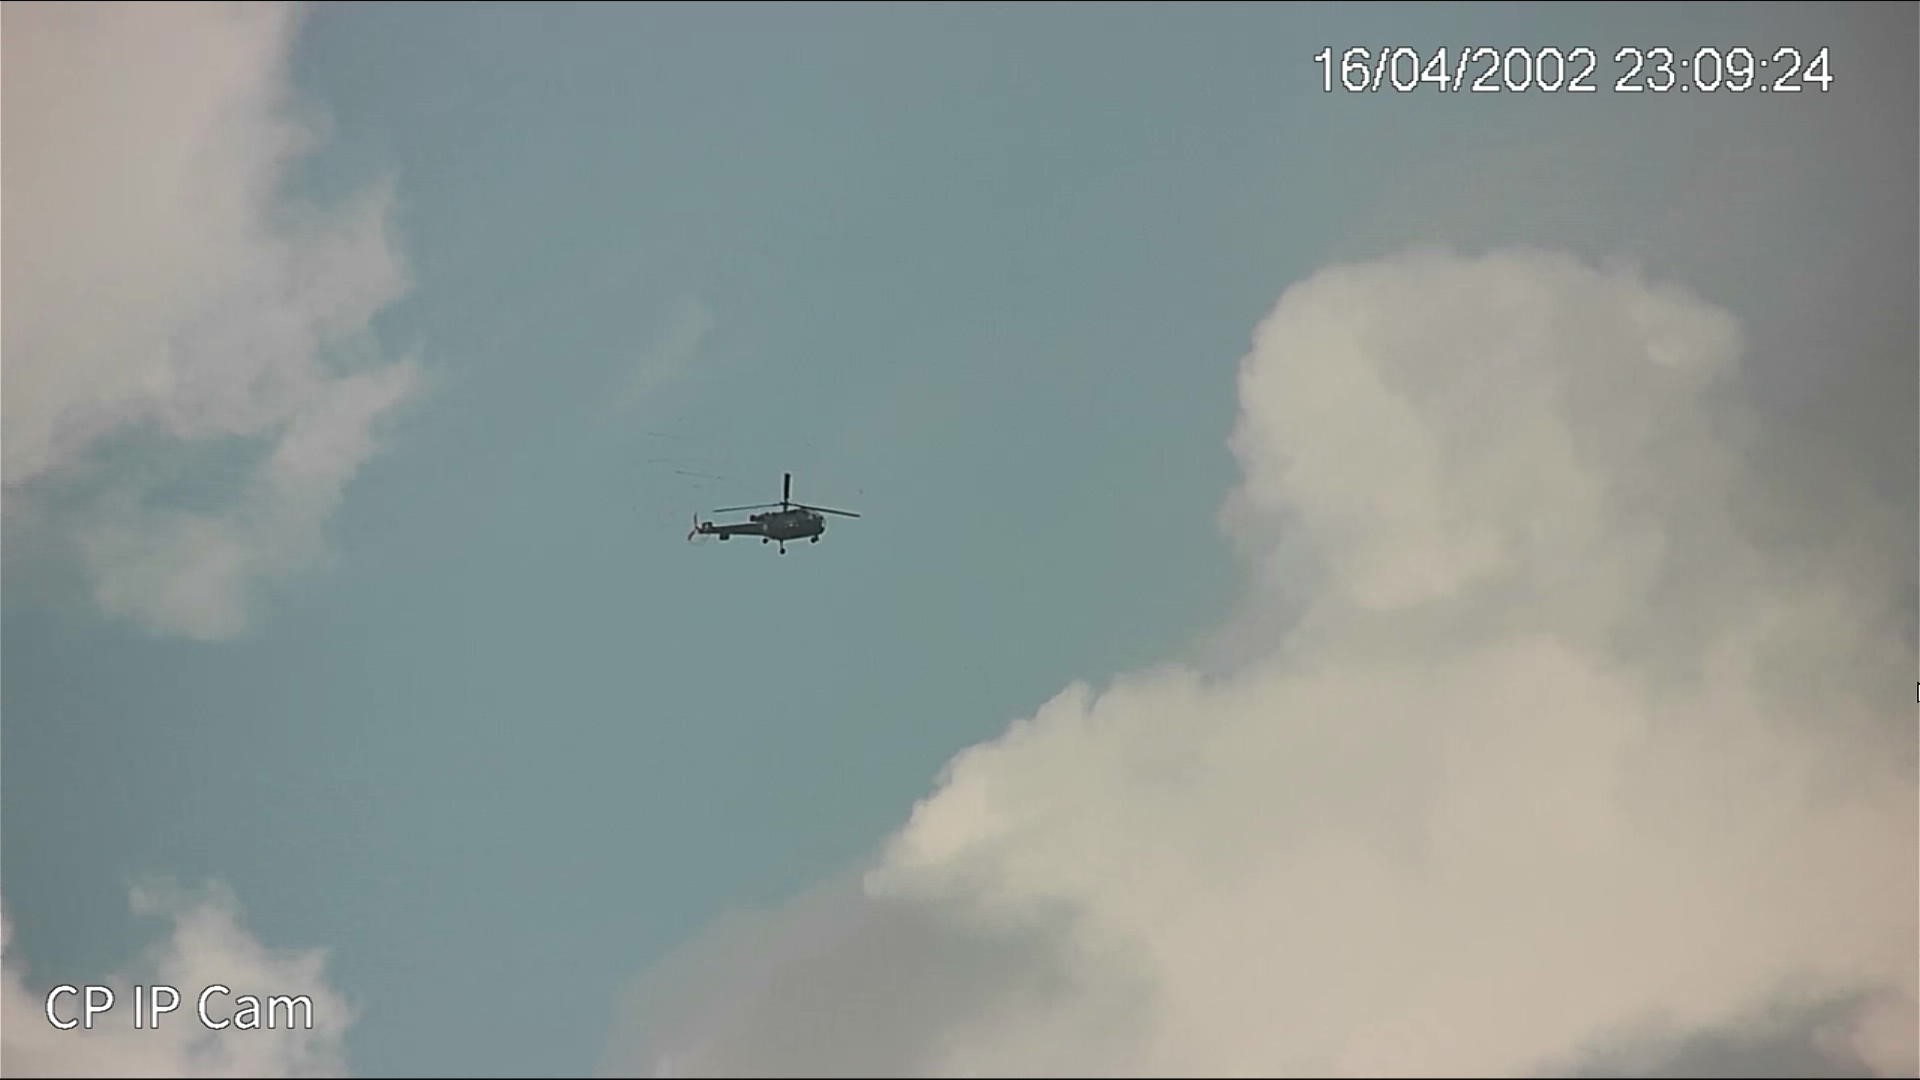SU_30: (674, 496, 837, 556)
